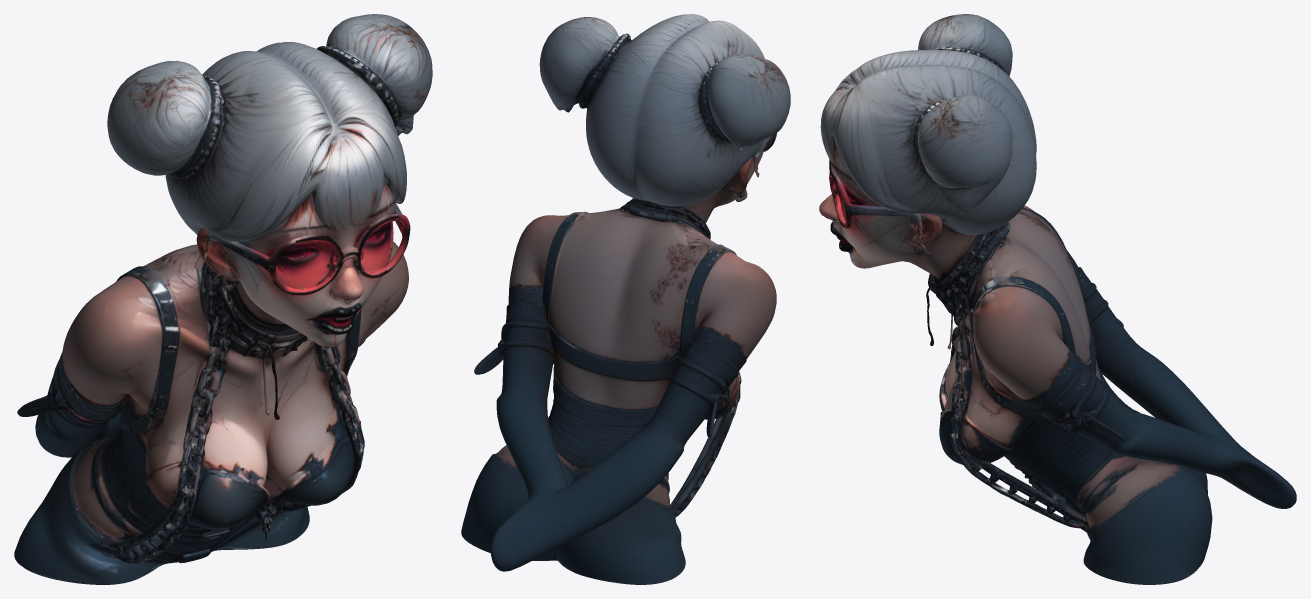
File: 01a19382-8a51-738d-8c90-e4c0fab01ca6.glb
3 renders of one model, left to right at view 1: azimuth 30°, elevation 25°; view 2: azimuth 150°, elevation 25°; view 3: azimuth 270°, elevation 25°, orthographic. The views are drawn at different scales.
Visible parts, largest first — view 1: node_0; view 2: node_0; view 3: node_0.
Boxes of the visible parts, x1,y1,x2,y2 form: node_0: (14, 14, 432, 584); node_0: (461, 14, 790, 584); node_0: (819, 14, 1296, 584).
Size of the model in its own units: 0.5588 by 0.9467 by 0.8733.
Materials: 1 (1 with a texture image).
